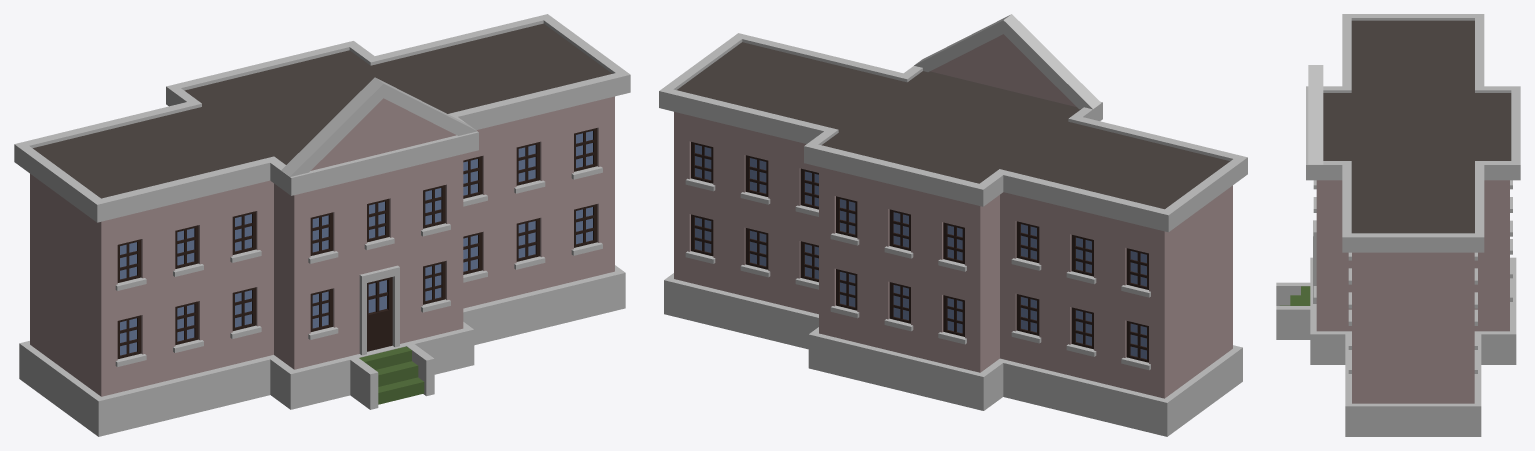
Rendered from GovernmentBuilding_05.fbx.
3 renders of one model, left to right at view 1: azimuth 30°, elevation 25°; view 2: azimuth 150°, elevation 25°; view 3: azimuth 270°, elevation 25°, orthographic. The views are drawn at different scales.
Visible parts, largest first — view 1: GovernmentBuilding_05; view 2: GovernmentBuilding_05; view 3: GovernmentBuilding_05.
Part boxes in pixels (box(x1,y1,x2,y2)): GovernmentBuilding_05: box(14, 14, 630, 436); GovernmentBuilding_05: box(659, 14, 1247, 436); GovernmentBuilding_05: box(1276, 14, 1520, 436).
Size of the model in its own units: 23.34 by 12.74 by 10.8.
